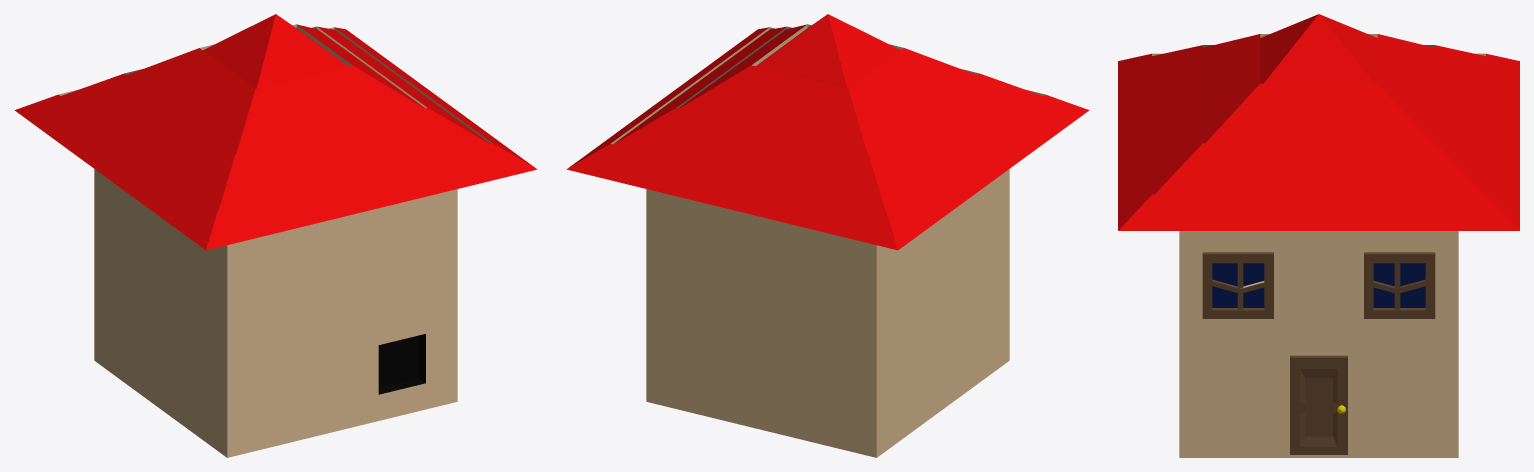
File: SM_Basic_House.fbx
3 renders of one model, left to right at view 1: azimuth 30°, elevation 25°; view 2: azimuth 150°, elevation 25°; view 3: azimuth 270°, elevation 25°, orthographic. The views are drawn at different scales.
Visible parts, largest first — view 1: Basic_House; view 2: Basic_House; view 3: Basic_House.
Part boxes in pixels (x1,y1,x2,y2): Basic_House: (14,14,537,457); Basic_House: (566,14,1089,457); Basic_House: (1118,14,1519,457).
Size of the model in its own units: 723 by 765 by 723.
